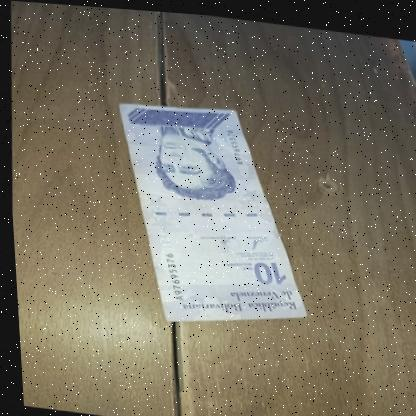vef_front: (104, 94, 313, 335)
